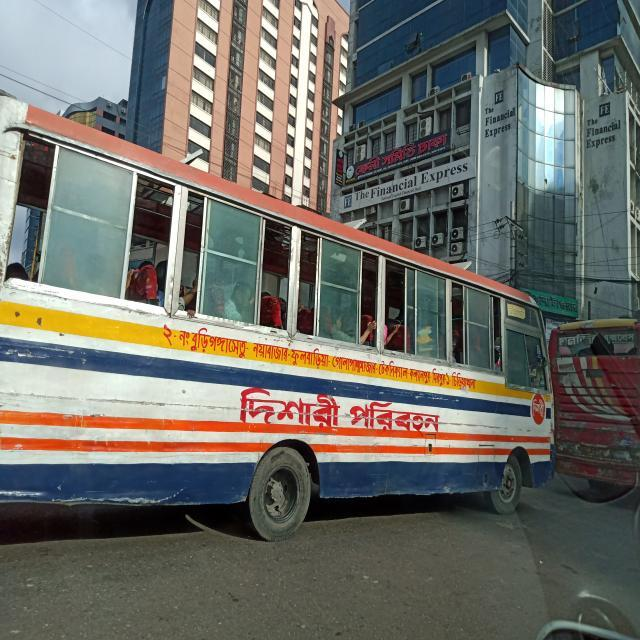bus: (1, 95, 556, 541)
